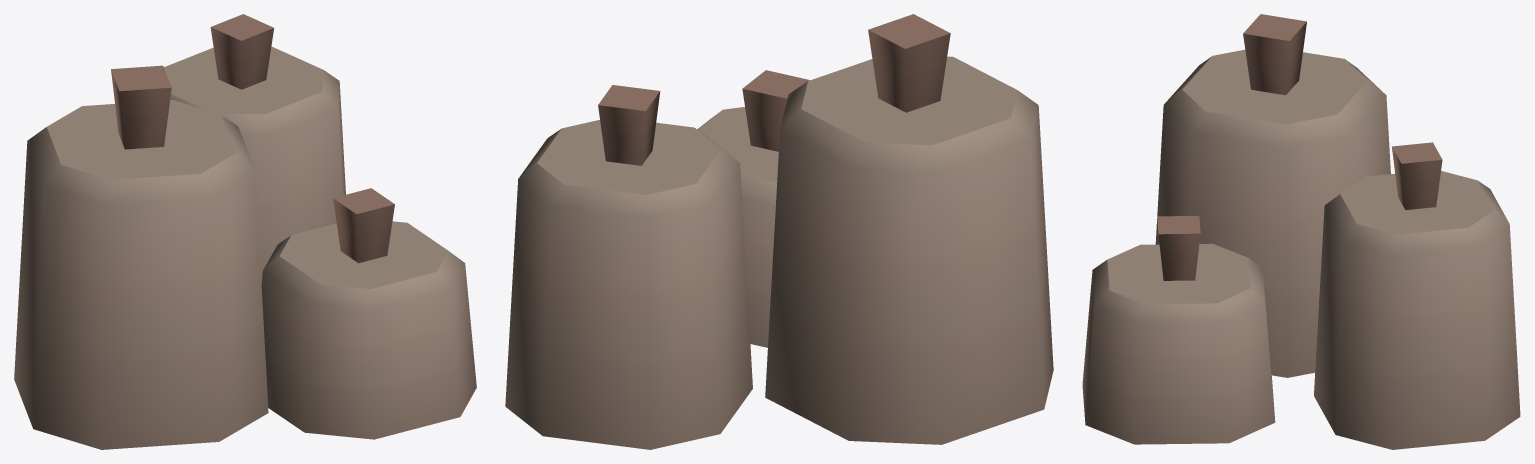
File: candle-multiple.glb
The picture shows the model from 3 angles, left to right: view 1: azimuth 30°, elevation 25°; view 2: azimuth 150°, elevation 25°; view 3: azimuth 270°, elevation 25°; orthographic projection. The views are drawn at different scales.
Parts seen in each view (by area): view 1: candle-multiple; view 2: candle-multiple; view 3: candle-multiple.
Boxes of the visible parts, <box> form: candle-multiple: <box>14,14,476,449</box>; candle-multiple: <box>505,14,1053,449</box>; candle-multiple: <box>1082,14,1520,449</box>.
Bounding box in the file's own units: 0.3828 × 0.3002 × 0.4001.
Materials: 1 (1 with a texture image).
